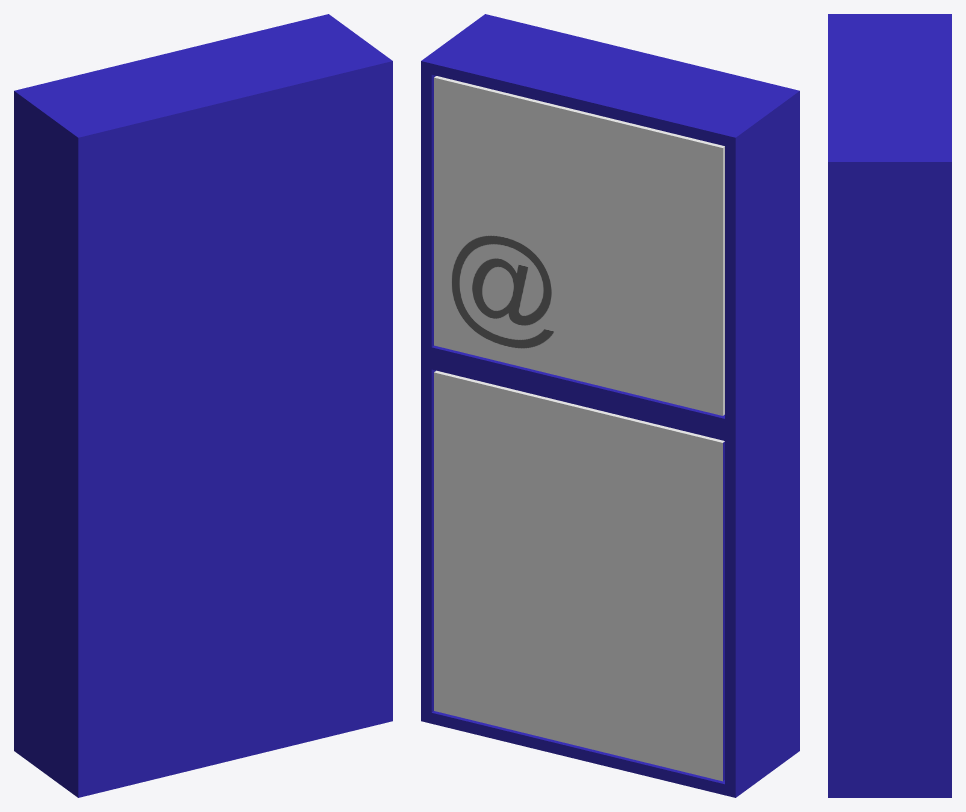
Rendered from Mueble 1.fbx.
3 views of the same model, side by side, from view 1: azimuth 30°, elevation 25°; view 2: azimuth 150°, elevation 25°; view 3: azimuth 270°, elevation 25° (orthographic). The views are drawn at different scales.
Visible parts, largest first — view 1: Mueble_1; view 2: Mueble_1; view 3: Mueble_1.
Boxes of the visible parts, bbox=[...] form: Mueble_1: bbox=[14, 14, 392, 797]; Mueble_1: bbox=[421, 14, 799, 797]; Mueble_1: bbox=[828, 14, 951, 797].
Size of the model in its own units: 1002 by 2010 by 354.
